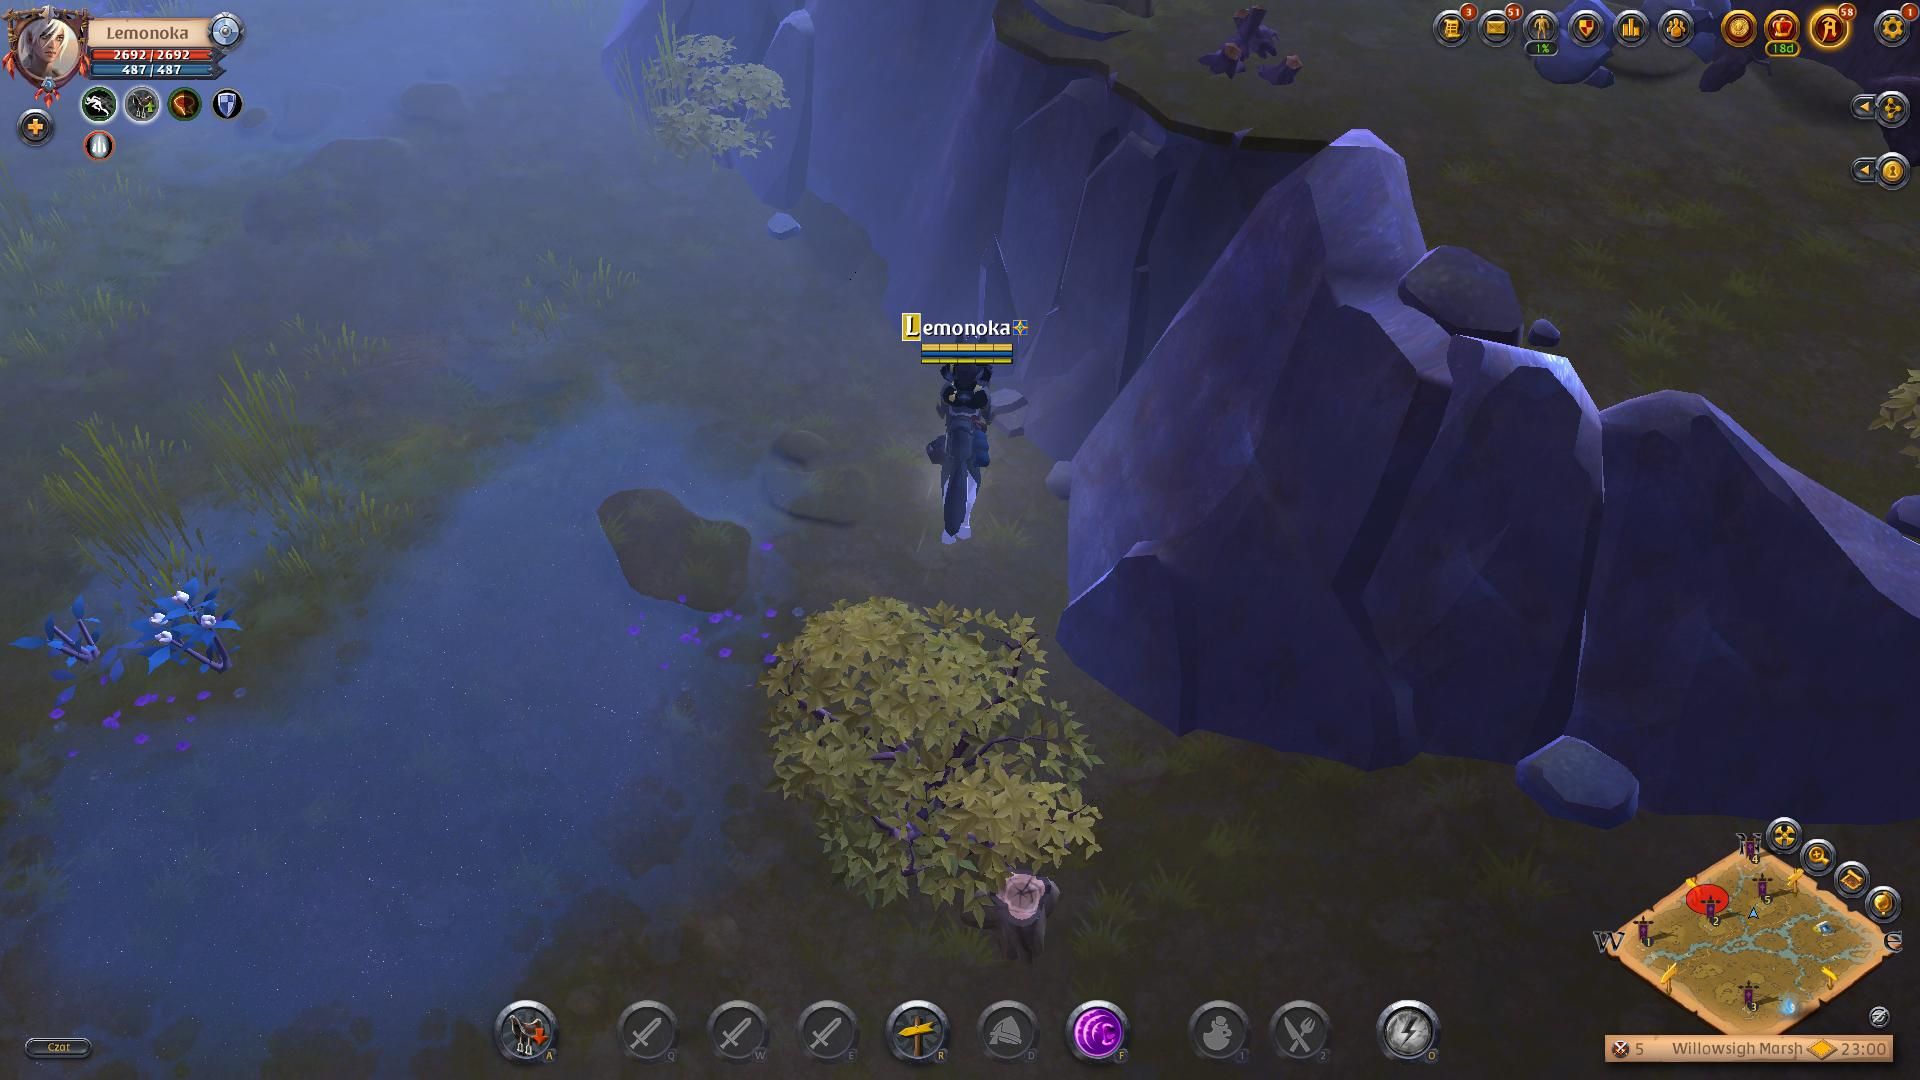wood tier 4: (135, 579, 245, 682)
